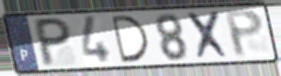4: (81, 14, 113, 67)
8: (152, 11, 190, 62)
D: (109, 14, 152, 64)
P: (222, 8, 266, 60), (34, 16, 72, 69)
X: (185, 9, 234, 62)
